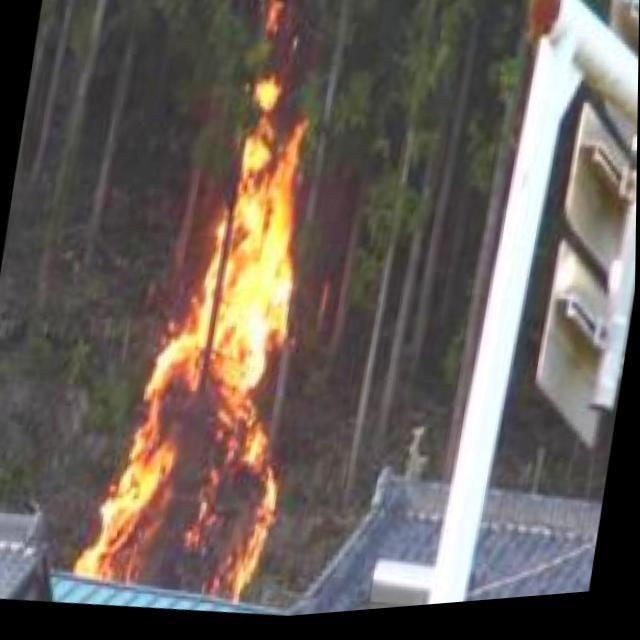fire: (72, 96, 336, 616)
